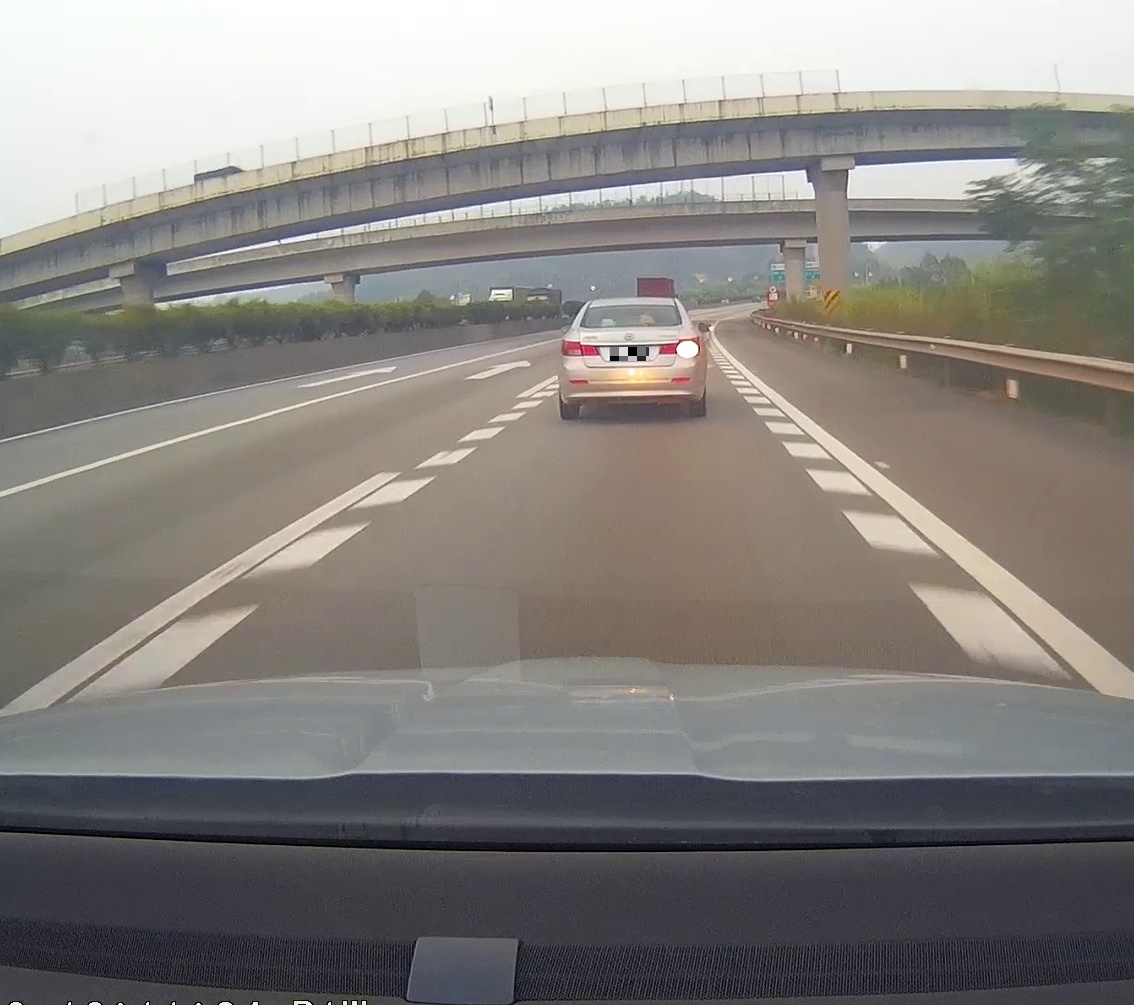L_light: (561, 340, 599, 357)
R_light: (660, 337, 699, 355)
T_light: (622, 306, 641, 309)
day-right: (559, 299, 707, 419)
plate_1: (610, 347, 649, 361)
